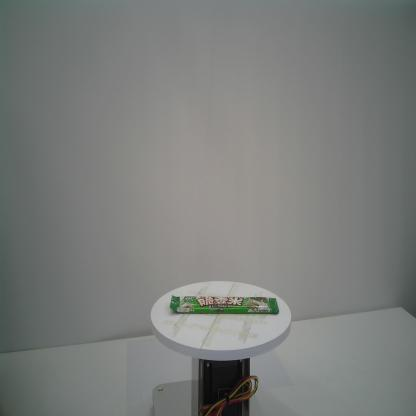Chocolate: (169, 295, 279, 315)
